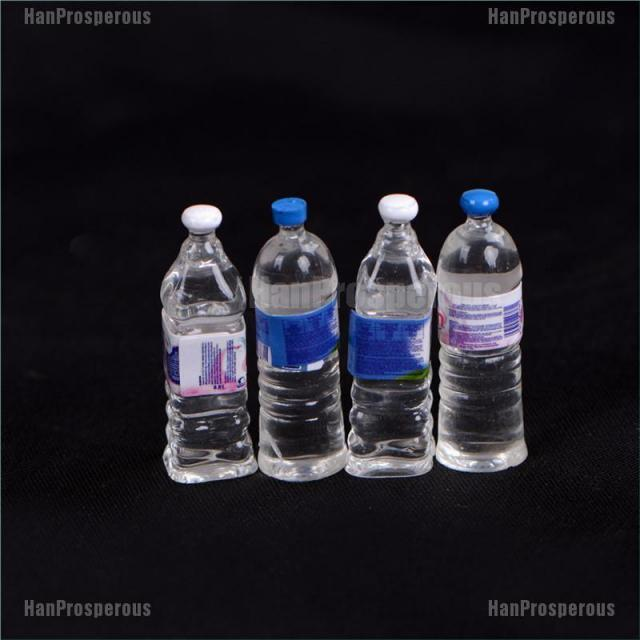bottle: (434, 183, 537, 474), (250, 195, 350, 488), (155, 200, 254, 488), (346, 189, 438, 482)
